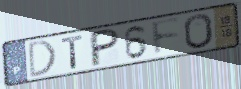6: (123, 24, 149, 60)
D: (27, 38, 58, 80)
F: (150, 16, 183, 58)
O: (182, 12, 215, 51)
P: (90, 27, 122, 69)
T: (60, 33, 85, 71)
